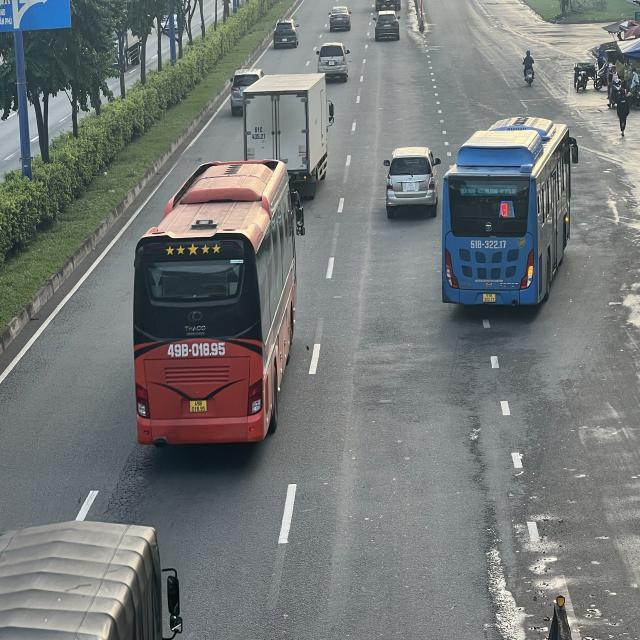car: (384, 145, 440, 214), (315, 42, 350, 81)
coach: (129, 160, 299, 446), (437, 121, 571, 316)
truck: (242, 74, 334, 185)
